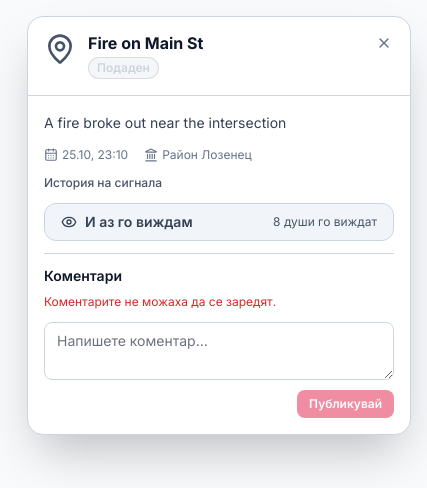
Test case: AlertDetail: "I see it too" › shows the incremented count while the confirmation is still in flight
Click the button "И аз го виждам 8 души го виждат" at (139, 222), box top-left (44, 203), bottom-right (394, 241)
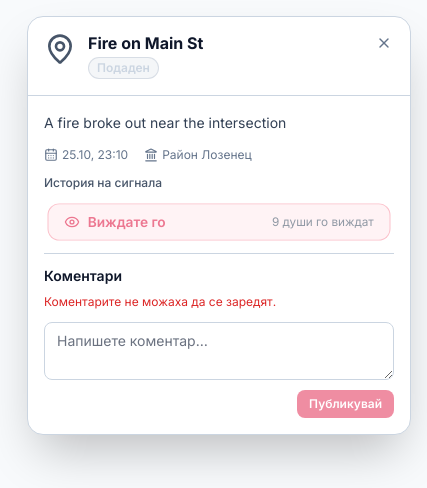
Result: the button named "И аз го виждам" shows "9 души го виждат" at top-left (48, 203), bottom-right (390, 241)
